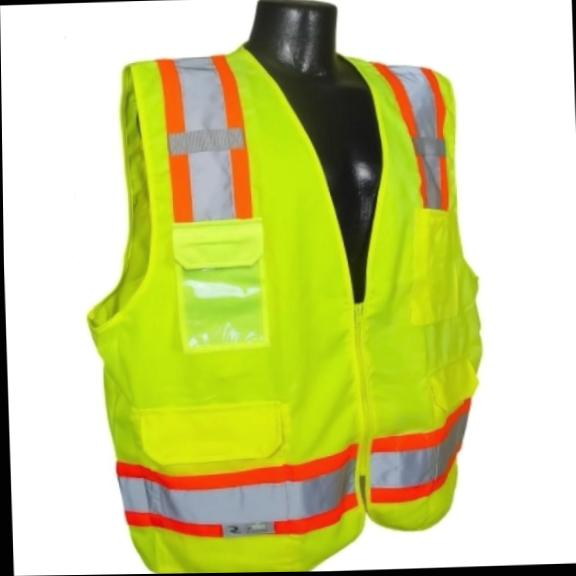safety_vest: (75, 24, 490, 575)
